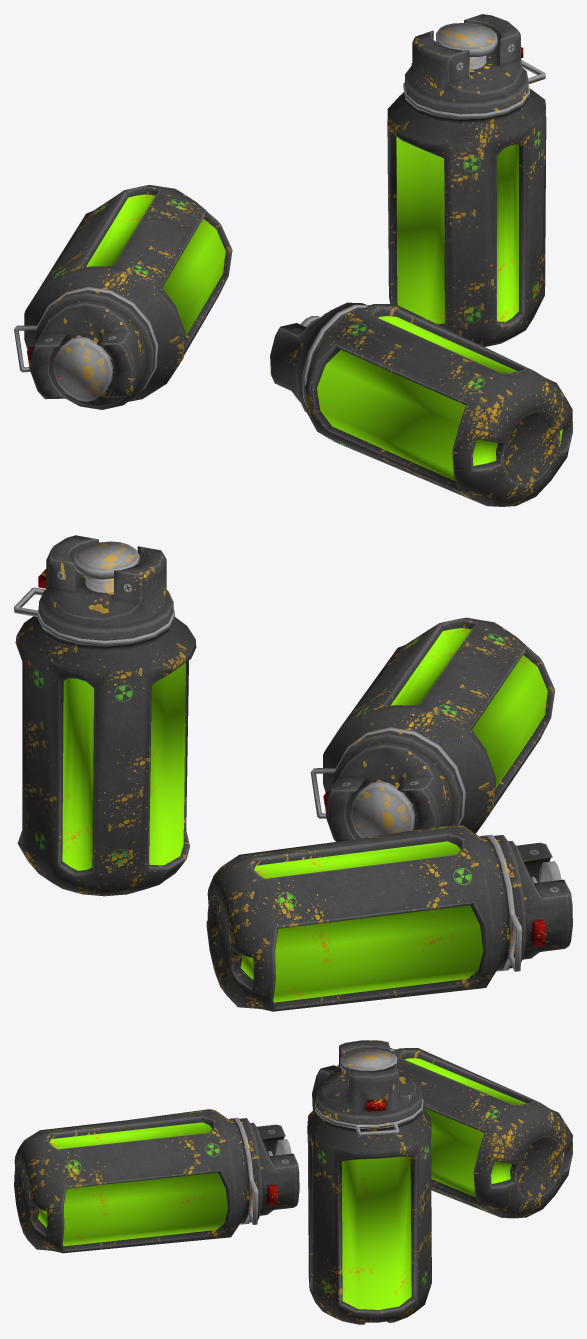
File: granandes.fbx
3 views of the same model, one above another, from view 1: azimuth 30°, elevation 25°; view 2: azimuth 150°, elevation 25°; view 3: azimuth 270°, elevation 25° (orthographic). The views are drawn at different scales.
Visible parts, largest first — view 1: defaultMaterial.006, defaultMaterial.005, defaultMaterial.004; view 2: defaultMaterial.006, defaultMaterial.004, defaultMaterial.005; view 3: defaultMaterial.005, defaultMaterial.006, defaultMaterial.004.
Part boxes in pixels (bbox=[...]): defaultMaterial.006: bbox=[387, 14, 546, 346]; defaultMaterial.005: bbox=[270, 302, 572, 506]; defaultMaterial.004: bbox=[14, 185, 232, 409]; defaultMaterial.006: bbox=[14, 535, 196, 896]; defaultMaterial.004: bbox=[206, 824, 572, 1011]; defaultMaterial.005: bbox=[310, 617, 555, 841]; defaultMaterial.005: bbox=[14, 1109, 299, 1253]; defaultMaterial.006: bbox=[307, 1040, 431, 1324]; defaultMaterial.004: bbox=[312, 1048, 572, 1218].
Size of the model in its own units: 32.06 by 17.86 by 36.18.
Materials: 1 (1 with a texture image).
